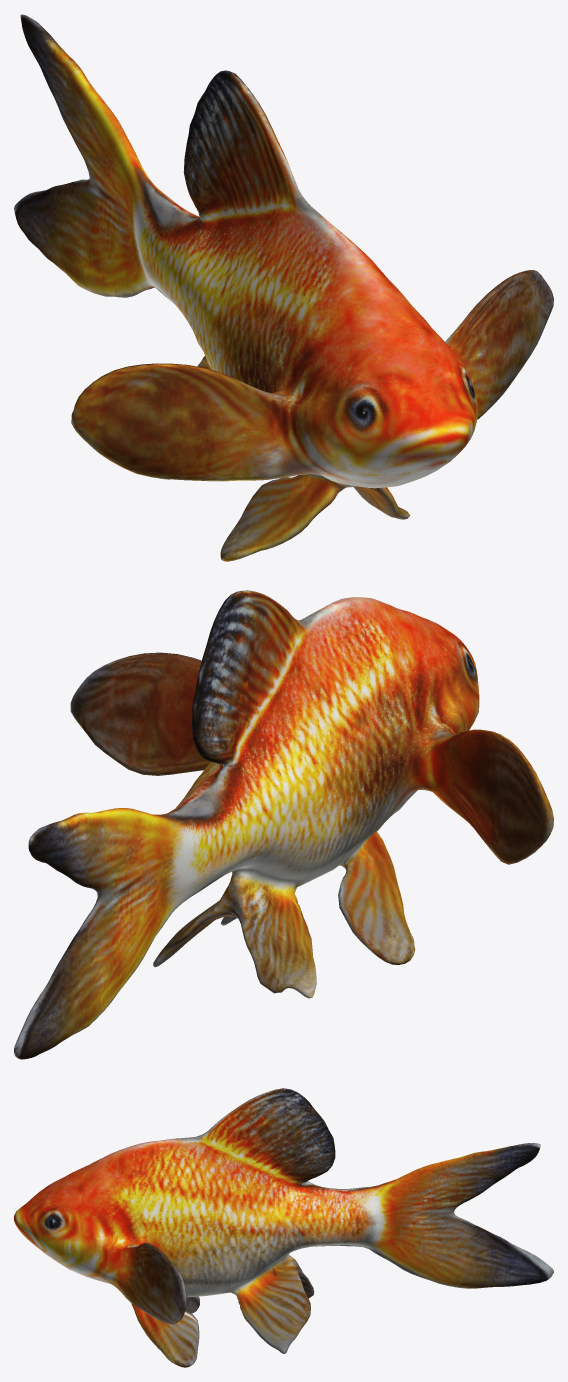
File: e5e3a123-a2ea-498e-97c6-e28a17bed303.glb
3 views of the same model, one above another, from view 1: azimuth 30°, elevation 25°; view 2: azimuth 150°, elevation 25°; view 3: azimuth 270°, elevation 25° (orthographic). The views are drawn at different scales.
Visible parts, largest first — view 1: Goldfish_Quad; view 2: Goldfish_Quad; view 3: Goldfish_Quad.
Part boxes in pixels (x1,y1,x2,y2): Goldfish_Quad: [14, 14, 553, 561]; Goldfish_Quad: [14, 590, 553, 1059]; Goldfish_Quad: [14, 1088, 553, 1367].
Bounding box in the file's own units: 0.0728 × 0.0588 × 0.1141.
Materials: 1 (1 with a texture image).
